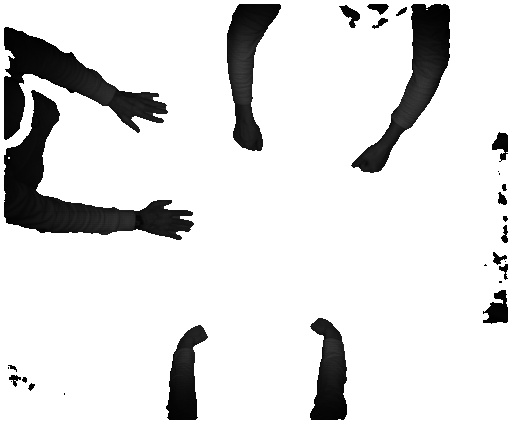fist: (344, 142, 392, 175), (232, 118, 263, 151), (304, 312, 338, 339), (187, 320, 207, 350)
hand: (142, 200, 199, 239), (117, 91, 167, 135)
